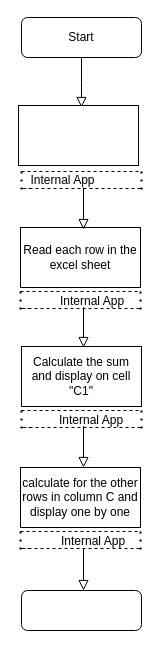
Some shapes in this 160 by 648 pixel diagram are drawn without their labels. The box of each missing label's shape, as (x1, y1, x2, y2) in pixels:
End: (20, 590, 142, 630)
Open "Sample Columns.xlsx": (18, 104, 138, 166)
